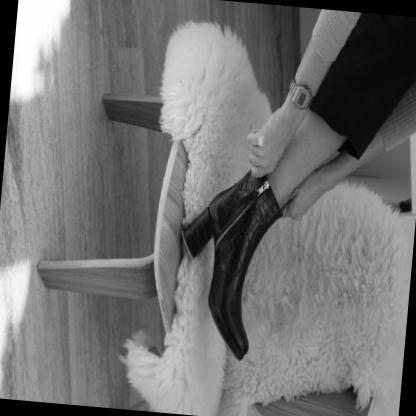ankle: (254, 197, 259, 207)
heel: (189, 240, 193, 244)
pinky: (245, 339, 247, 343)
right_foot: (171, 165, 286, 366)
toe: (237, 346, 240, 352)
